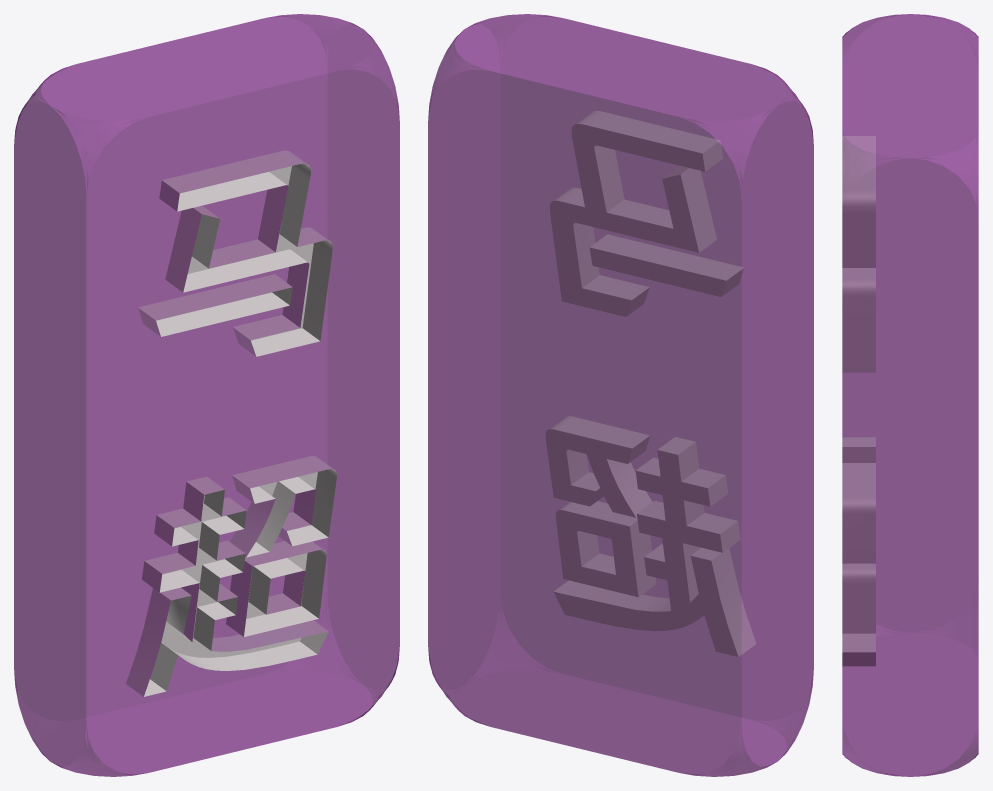
File: machao.gltf
3 views of the same model, side by side, from view 1: azimuth 30°, elevation 25°; view 2: azimuth 150°, elevation 25°; view 3: azimuth 270°, elevation 25° (orthographic). The views are drawn at different scales.
Parts seen in each view (by area): view 1: g, 超, 马; view 2: g, 超, 马; view 3: g, 马, 超.
Boxes of the visible parts, box(x1,y1,x2,y2) form: g: box(14, 14, 399, 776); 超: box(126, 456, 336, 696); 马: box(138, 150, 332, 356); g: box(428, 14, 813, 776); 超: box(545, 416, 756, 656); 马: box(550, 110, 743, 316); g: box(842, 14, 978, 776); 马: box(842, 136, 875, 372); 超: box(842, 437, 875, 666).
Bounding box in the file's own units: 200 × 400 × 80.
